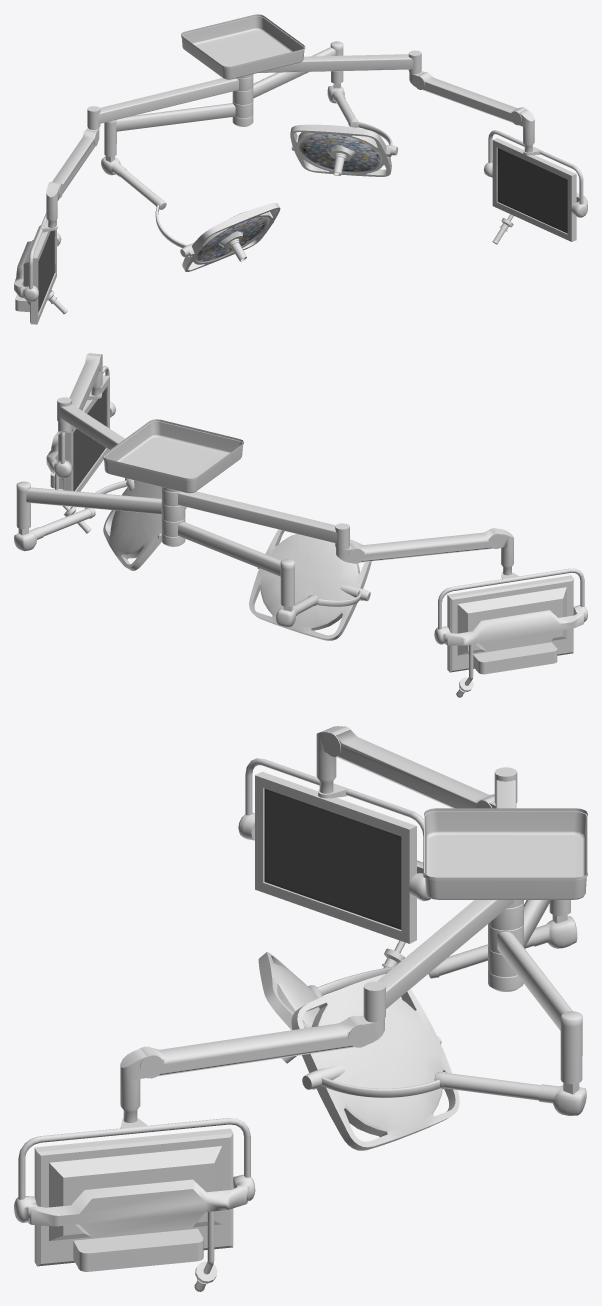
The model's file is OperationLight.fbx.
The picture shows the model from 3 angles, top to bottom: view 1: azimuth 30°, elevation 25°; view 2: azimuth 150°, elevation 25°; view 3: azimuth 270°, elevation 25°; orthographic projection. The views are drawn at different scales.
Visible parts, largest first — view 1: OperationLight; view 2: OperationLight; view 3: OperationLight.
Part boxes in pixels (x1,y1,x2,y2): OperationLight: (14,14,587,324); OperationLight: (14,353,587,697); OperationLight: (14,726,587,1291).
Size of the model in its own units: 475 by 174 by 271.
